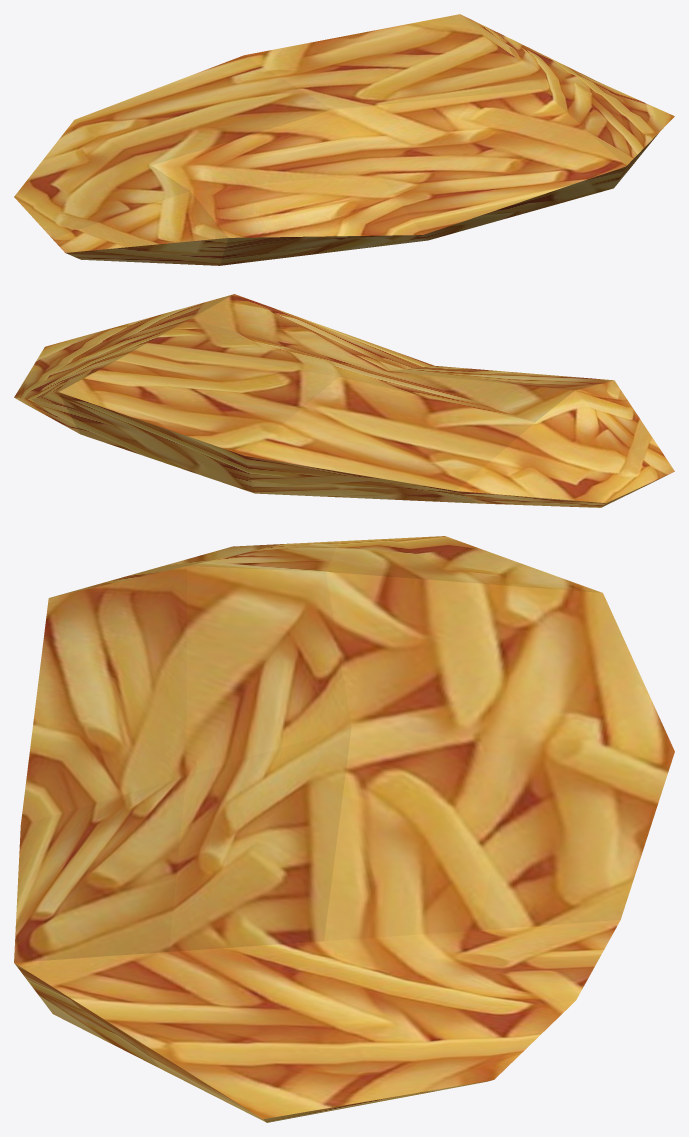
Rendered from f_Sraightfries_servingBasket_fried.fbx.
3 renders of one model, top to bottom at view 1: azimuth 30°, elevation 25°; view 2: azimuth 150°, elevation 25°; view 3: azimuth 270°, elevation 25°, orthographic. The views are drawn at different scales.
Parts seen in each view (by area): view 1: f_fries_inServingbasket; view 2: f_fries_inServingbasket; view 3: f_fries_inServingbasket.
Boxes of the visible parts, <box> form: f_fries_inServingbasket: <box>14,14,674,265</box>; f_fries_inServingbasket: <box>14,294,674,507</box>; f_fries_inServingbasket: <box>14,536,674,1122</box>.
Bounding box in the file's own units: 25.35 × 48.67 × 5.31.
